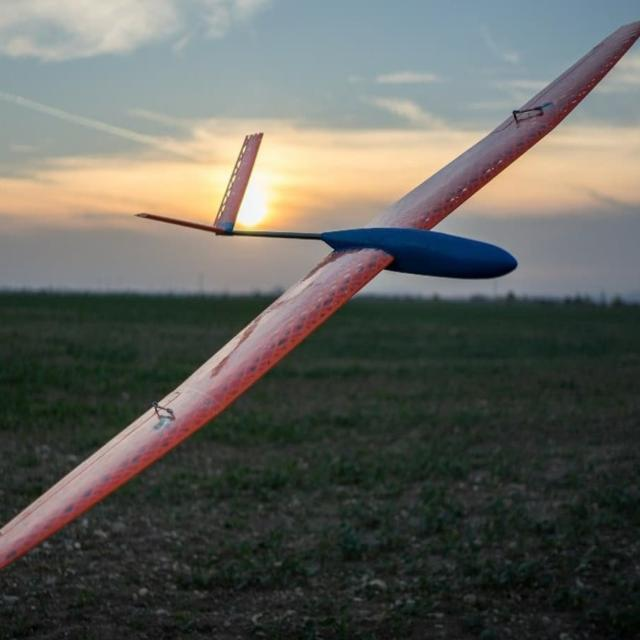iha: (0, 13, 640, 575)
